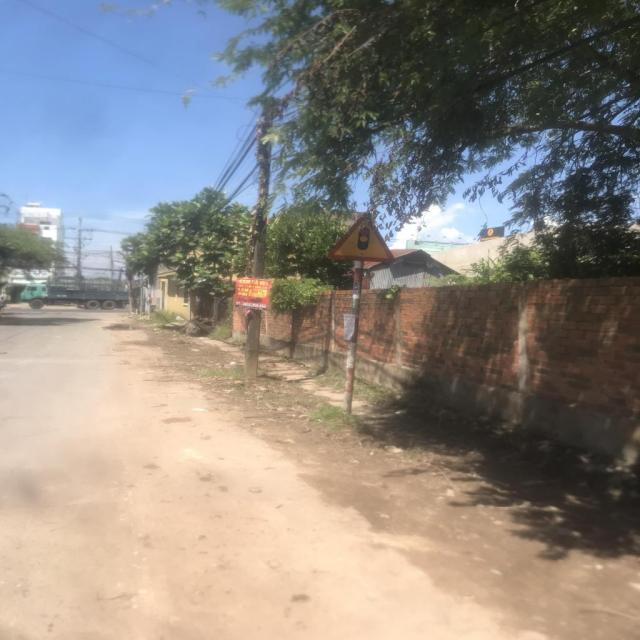giao_nhau_co_tin_hieu_den: (326, 209, 397, 263)
